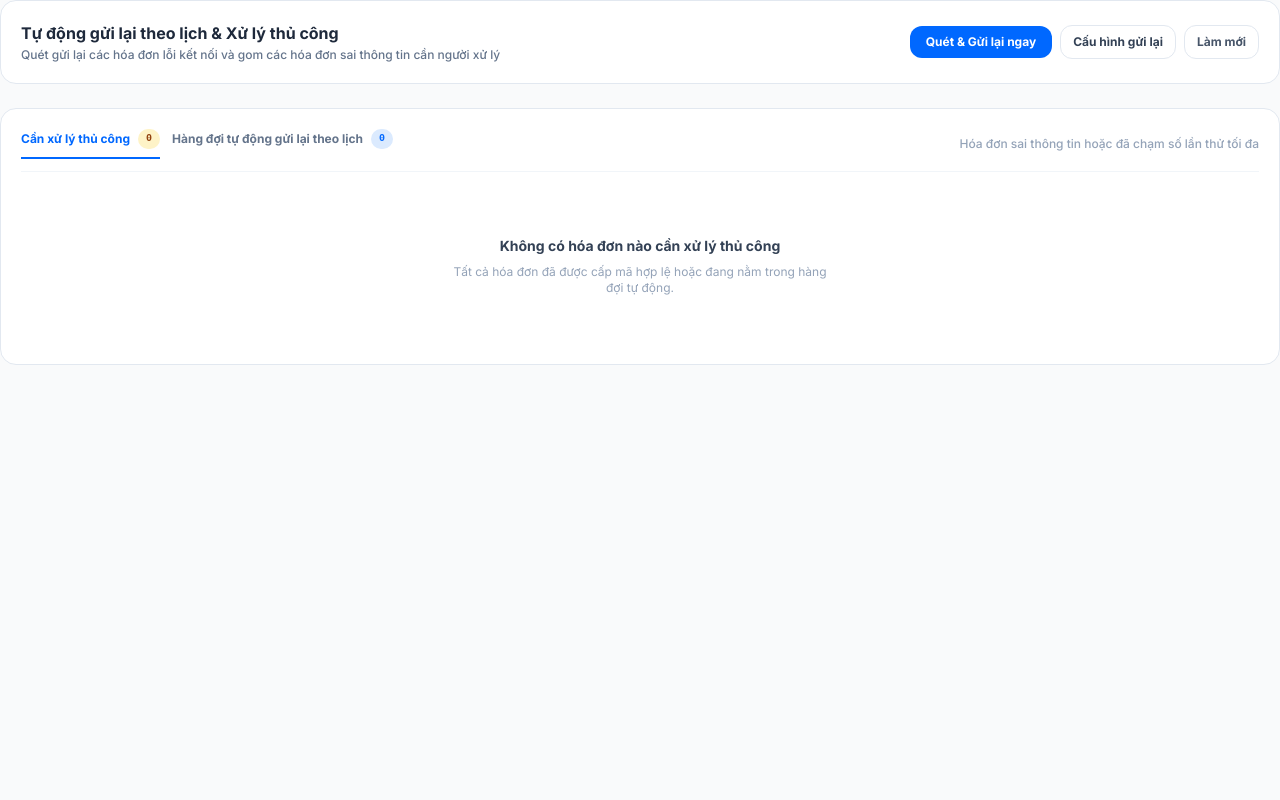
NCL-04-CN-007: Tự động gửi lại hóa đơn chưa được cấp mã theo lịch & Xử lý thủ công › NCL-04-CN-007-TC-05: Mở modal Cấu hình gửi lại và giao diện hiển thị chuyên nghiệp, không chứa mã kỹ thuật NCL-09
Click the button "Cấu hình gửi lại". click: (1118, 42)
box: left=1060, top=25, right=1176, bottom=59
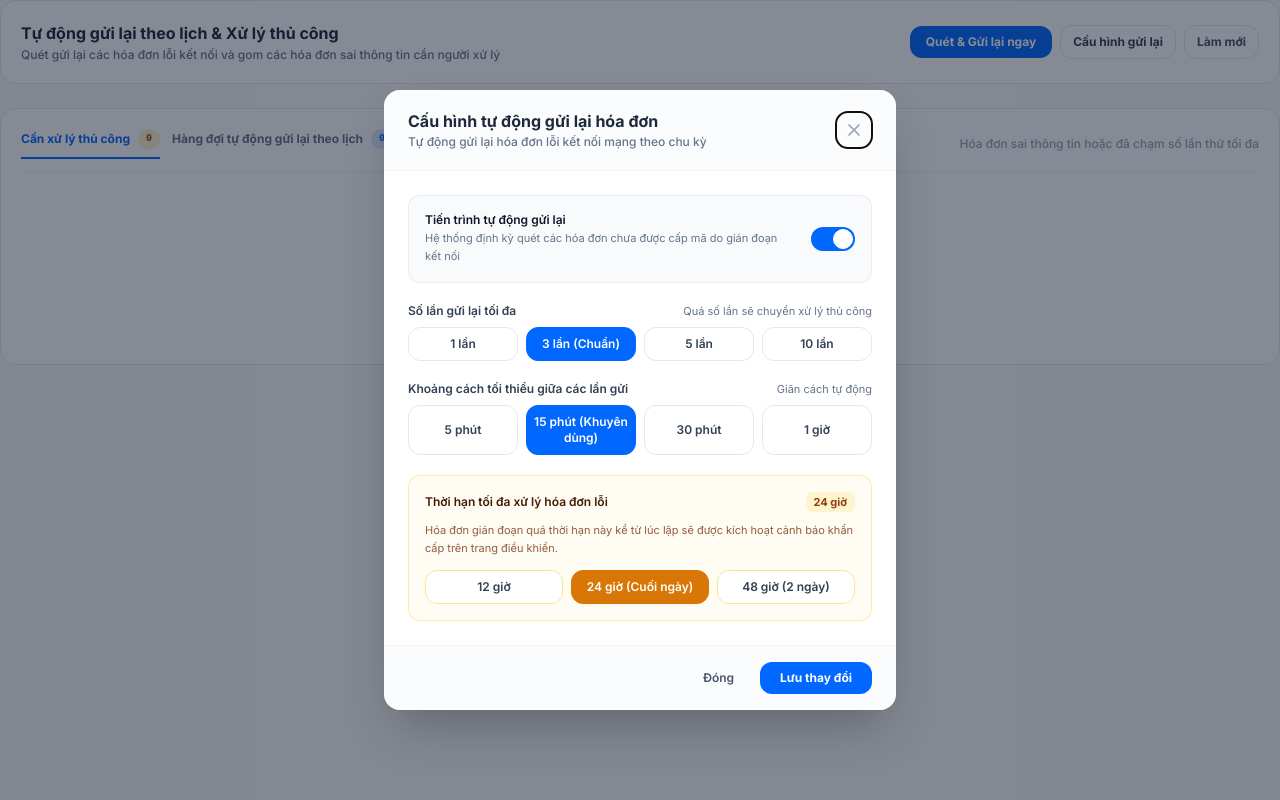
Expected: the heading "Cấu hình tự động gửi lại hóa đơn" is shown, left=408, top=111, right=658, bottom=131
Expected: the text "Số lần gửi lại tối đa" is shown, left=408, top=303, right=516, bottom=319
Expected: the text "Thời hạn tối đa xử lý hóa đơn lỗi" is shown, left=425, top=494, right=608, bottom=510
